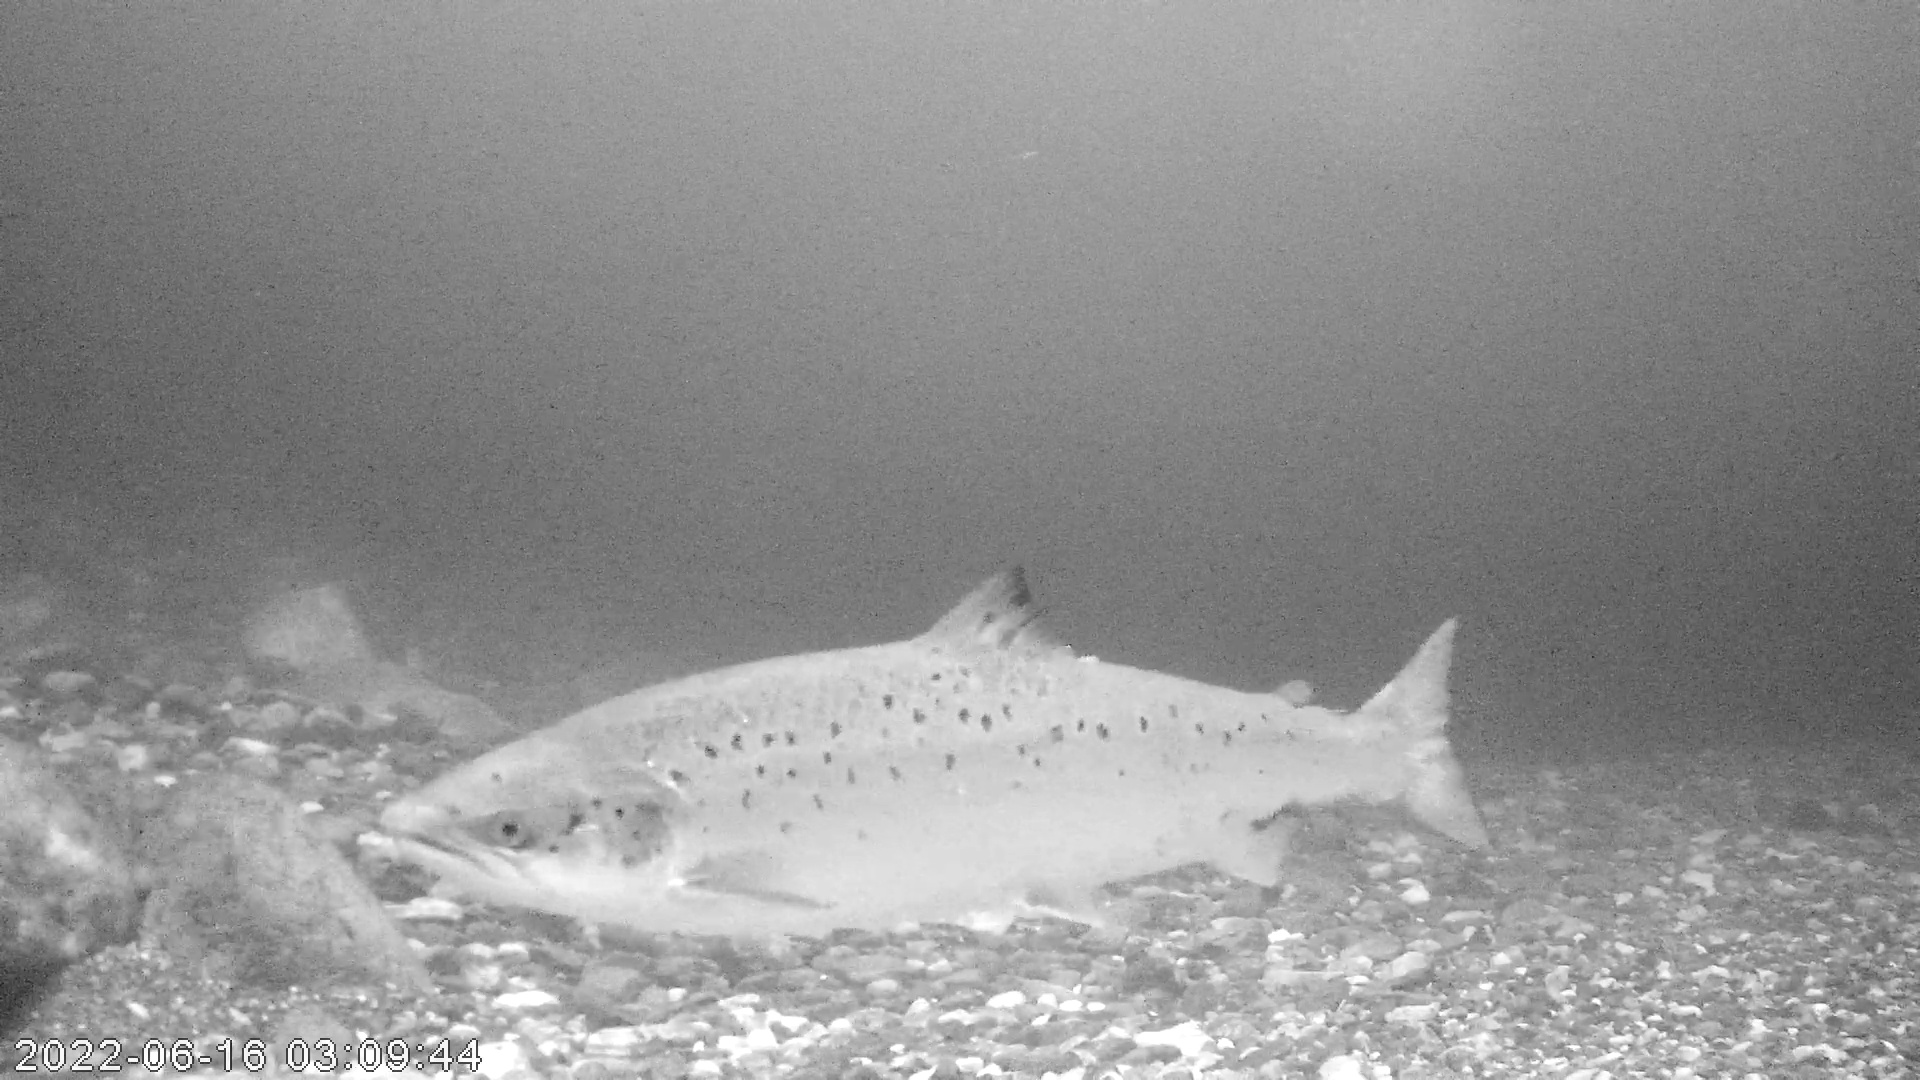salmon: (380, 560, 1495, 944)
